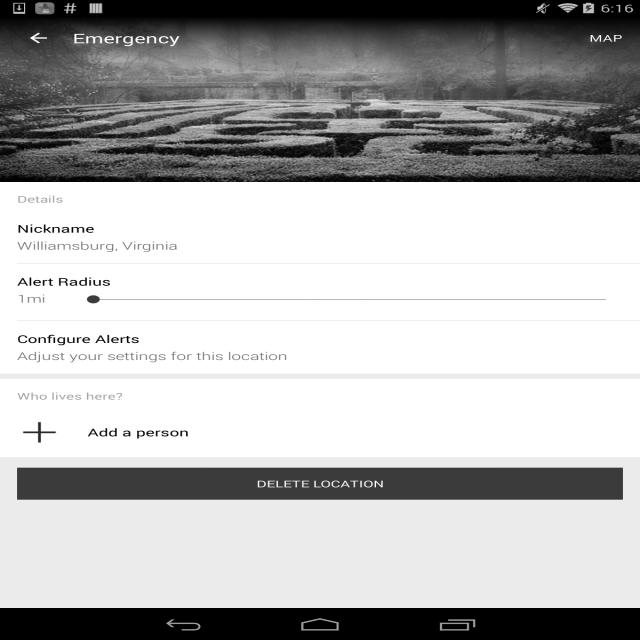Button: (17, 468, 623, 500)
ImageButton: (9, 17, 68, 59)
ImageView: (0, 17, 640, 182), (17, 418, 62, 446)
SeekBar: (75, 289, 623, 310)
TextView: (17, 221, 623, 236), (17, 238, 623, 253), (17, 274, 623, 289), (17, 332, 623, 346), (17, 349, 623, 363), (87, 425, 623, 439), (72, 29, 180, 47), (0, 390, 140, 402), (580, 22, 632, 54), (0, 193, 81, 205), (17, 291, 75, 306)
